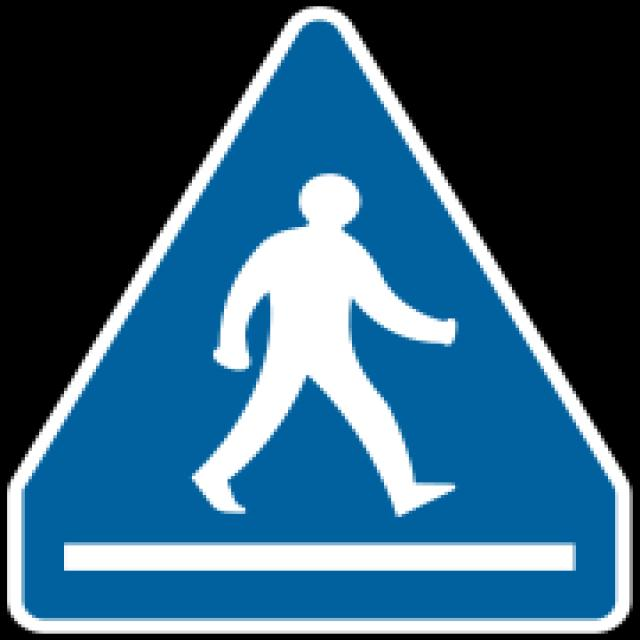Pedestrian crosswalk: (36, 59, 612, 591)
